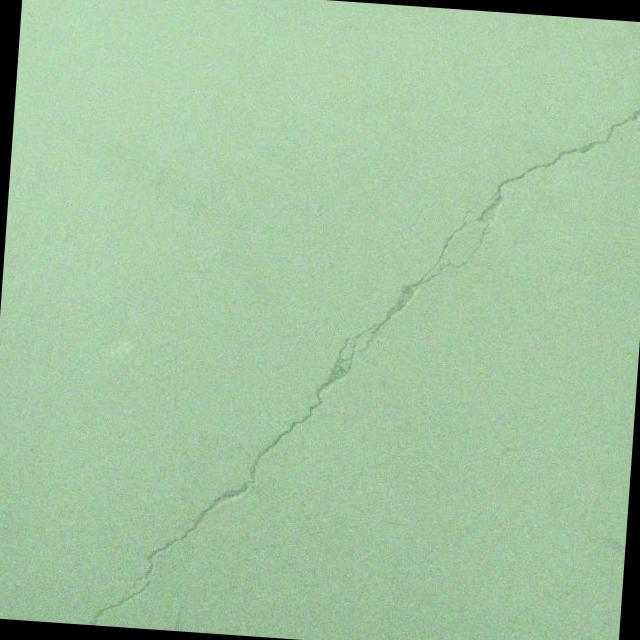crack: (85, 57, 640, 640)
